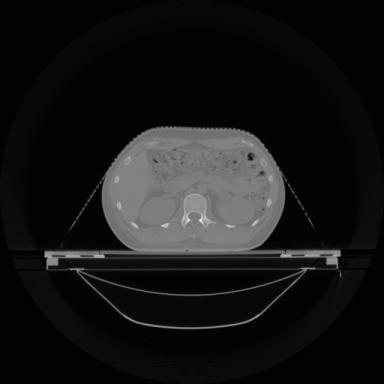body: (104, 128, 285, 251)
cord: (181, 194, 215, 228)
